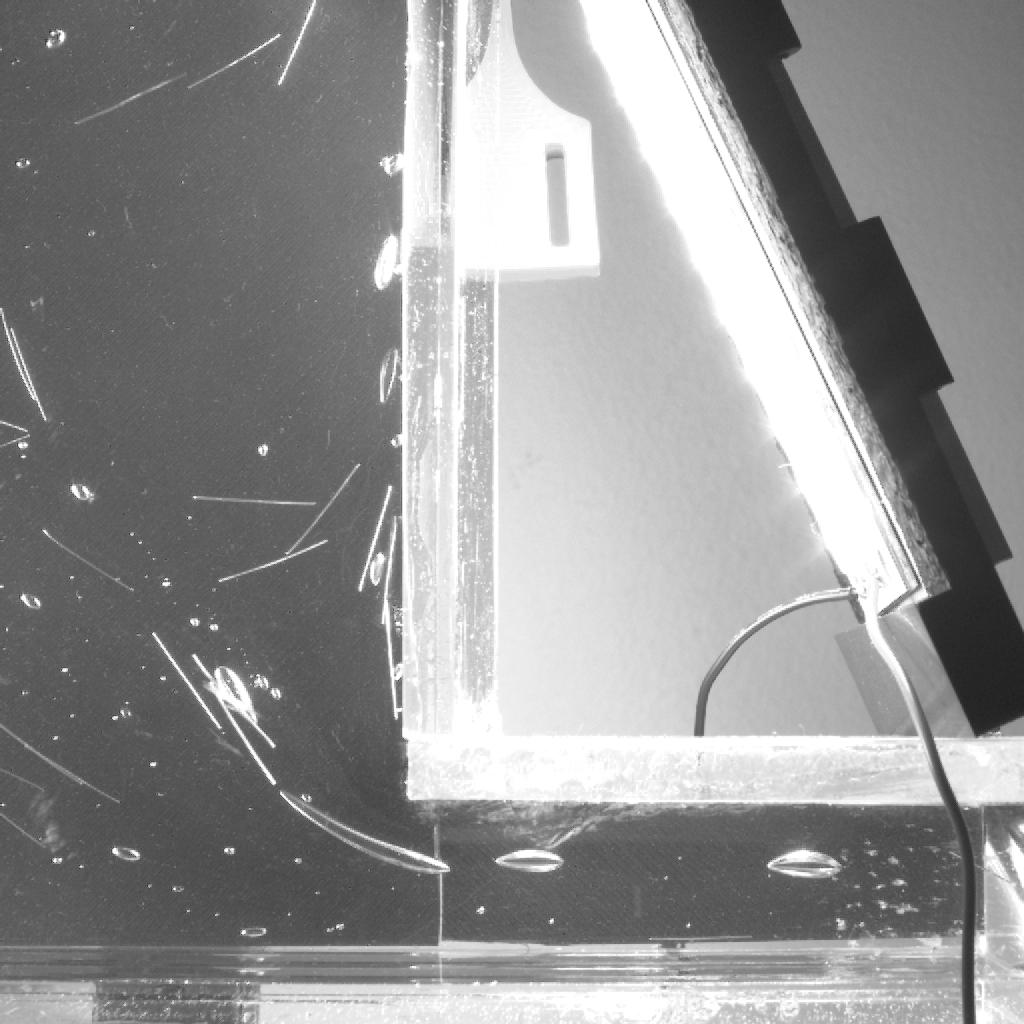Fiber: (186, 650, 280, 751), (279, 457, 362, 567), (144, 629, 226, 733), (211, 689, 285, 792), (39, 526, 138, 600), (19, 737, 123, 807), (73, 68, 192, 129), (212, 534, 334, 592), (185, 30, 285, 94), (0, 719, 85, 792), (351, 479, 395, 597), (6, 320, 50, 429), (274, 0, 322, 91), (0, 301, 38, 405), (944, 845, 1017, 891), (378, 593, 401, 724), (381, 515, 403, 626), (0, 807, 53, 853), (187, 495, 316, 510), (0, 760, 45, 796), (0, 415, 35, 440), (0, 433, 33, 459), (647, 934, 754, 941)
